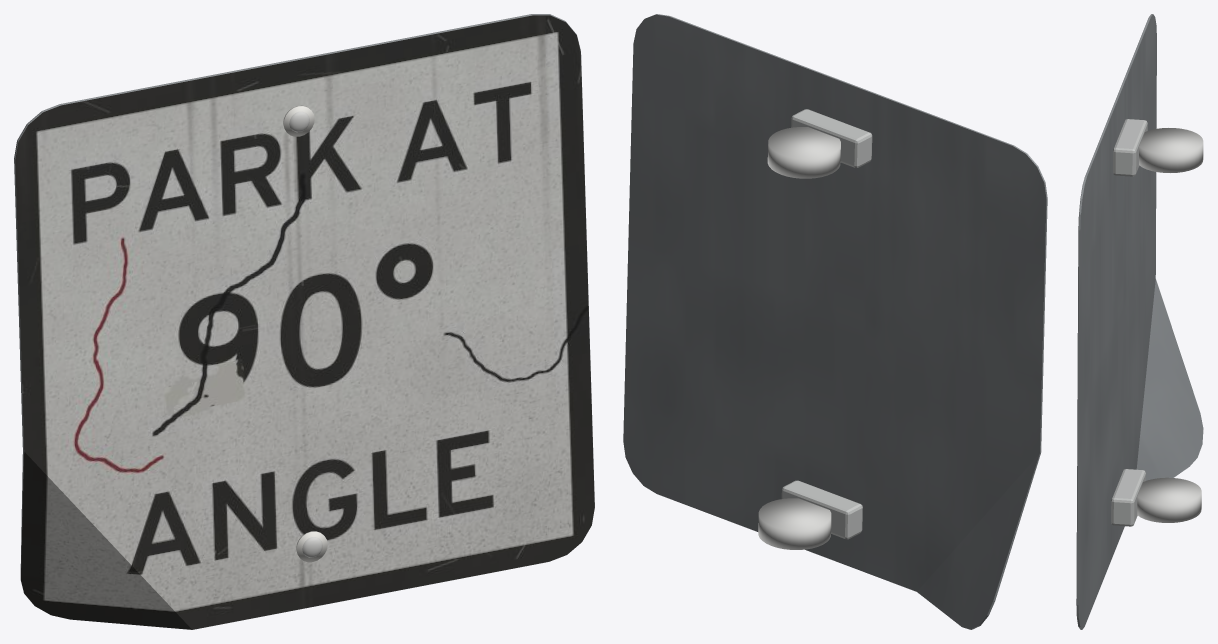
Rendered from parkingAngle-v1-battered.glb.
The picture shows the model from 3 angles, left to right: view 1: azimuth 30°, elevation 25°; view 2: azimuth 150°, elevation 25°; view 3: azimuth 270°, elevation 25°; orthographic projection. The views are drawn at different scales.
Visible parts, largest first — view 1: parkingAngle-v1-battered; view 2: parkingAngle-v1-battered; view 3: parkingAngle-v1-battered.
Boxes of the visible parts, bbox=[...] form: parkingAngle-v1-battered: bbox=[14, 14, 594, 629]; parkingAngle-v1-battered: bbox=[623, 14, 1047, 629]; parkingAngle-v1-battered: bbox=[1076, 14, 1203, 629].
Bounding box in the file's own units: 0.4627 × 0.4655 × 0.1186.
Materials: 1 (1 with a texture image).
